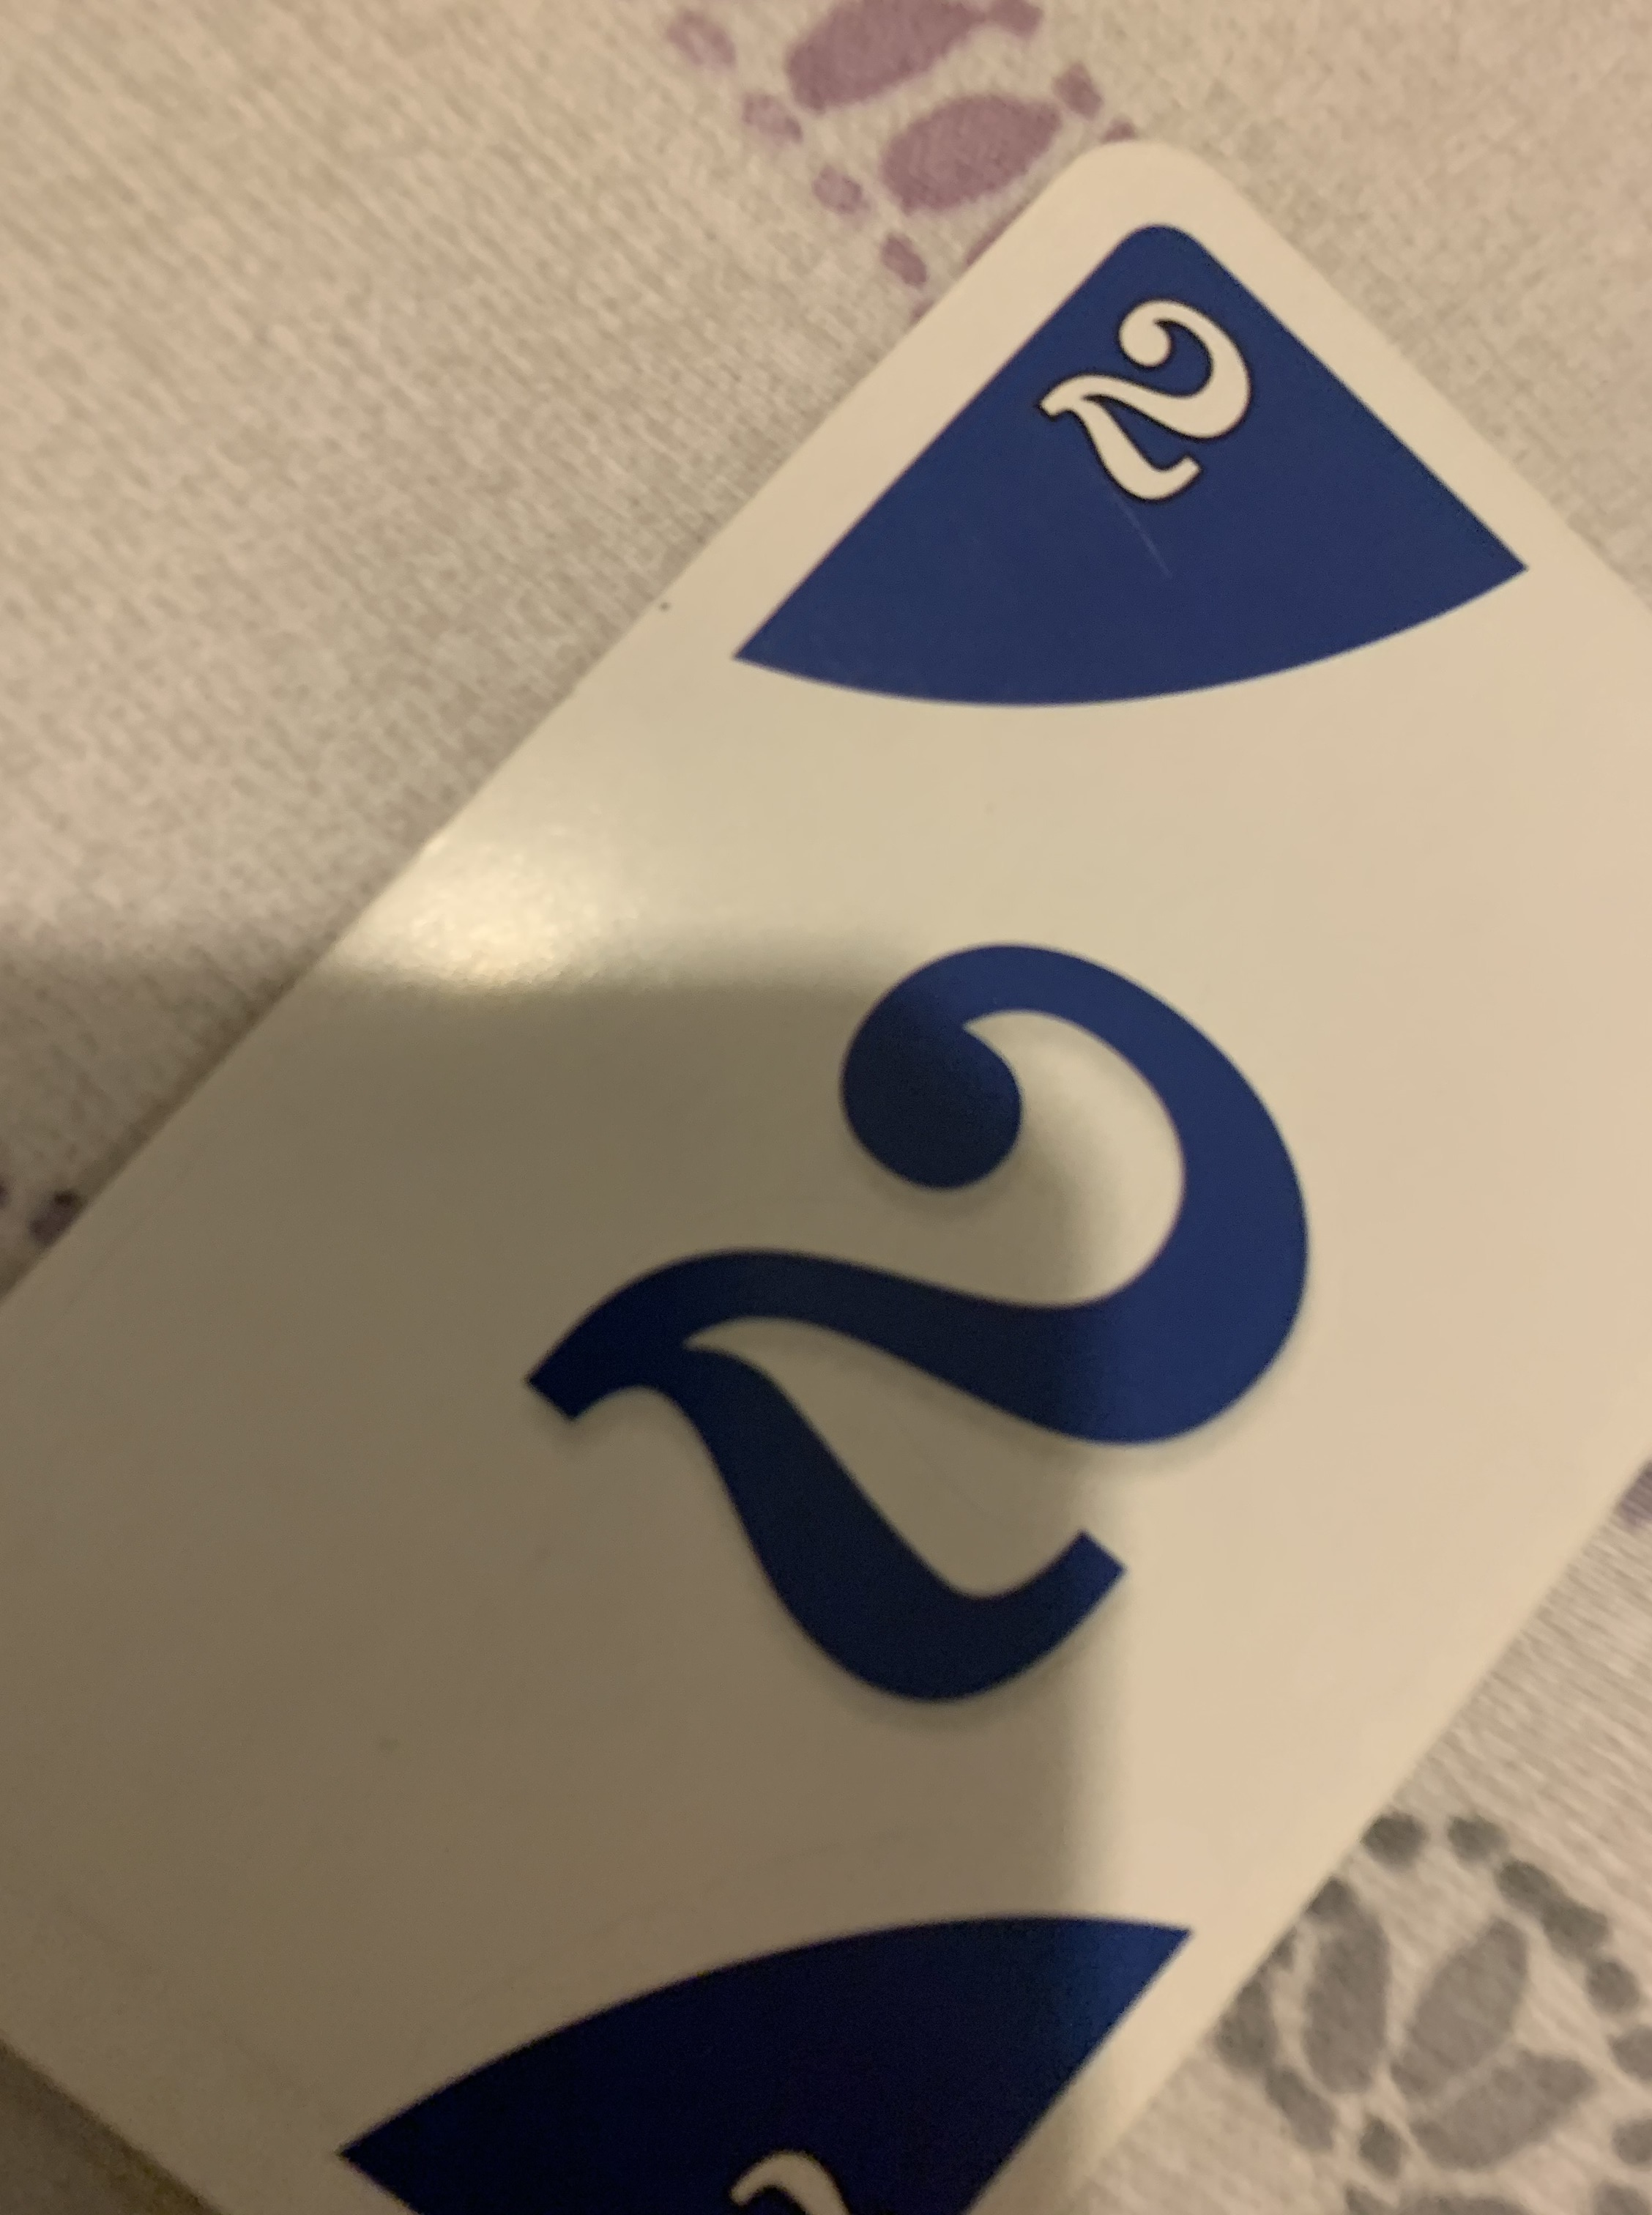two: (76, 139, 1652, 2206)
